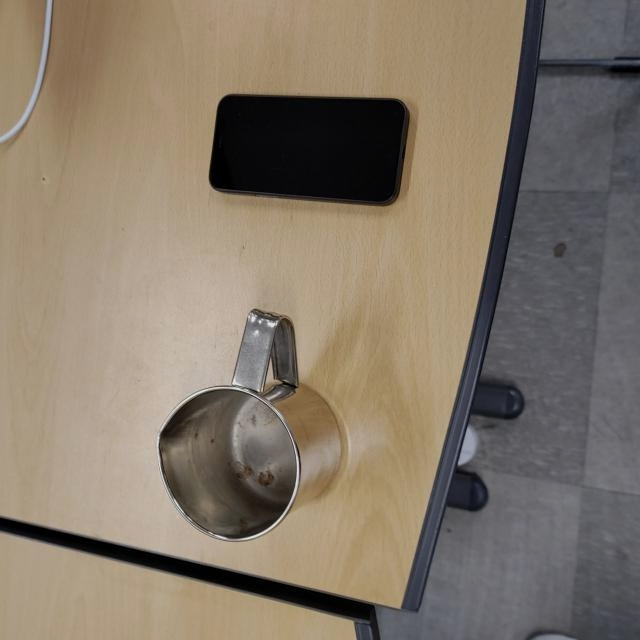cup: (157, 306, 343, 552)
phone: (207, 91, 411, 209)
